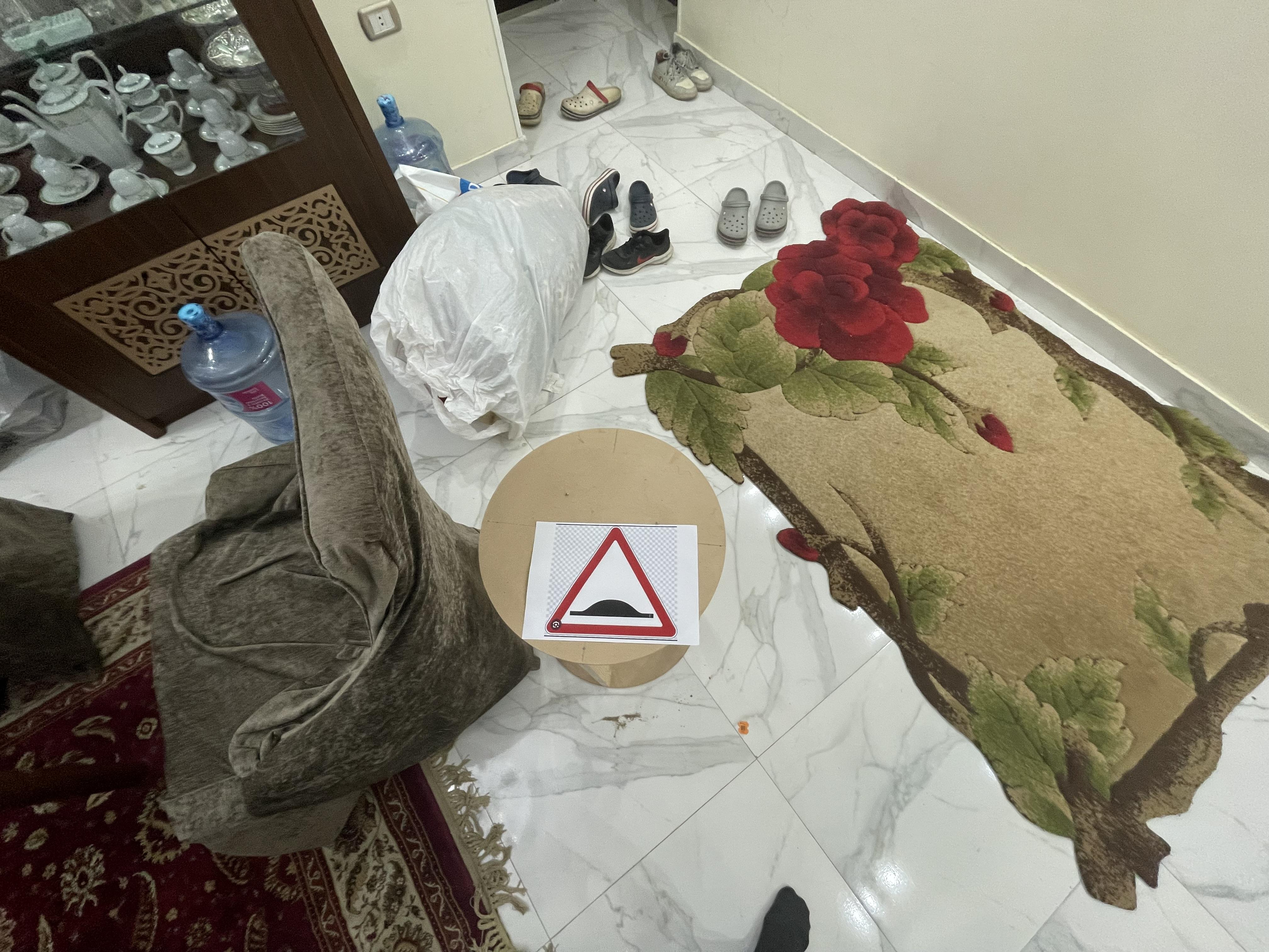Hump: (416, 406, 570, 504)
